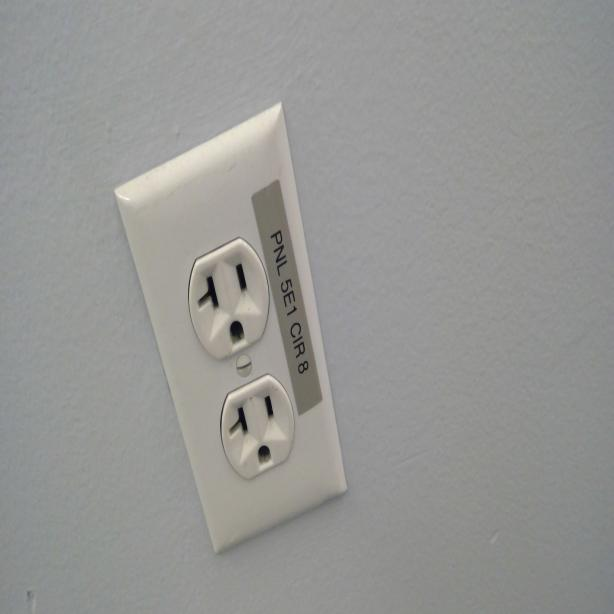typeb: (190, 249, 263, 350), (216, 380, 292, 472)
